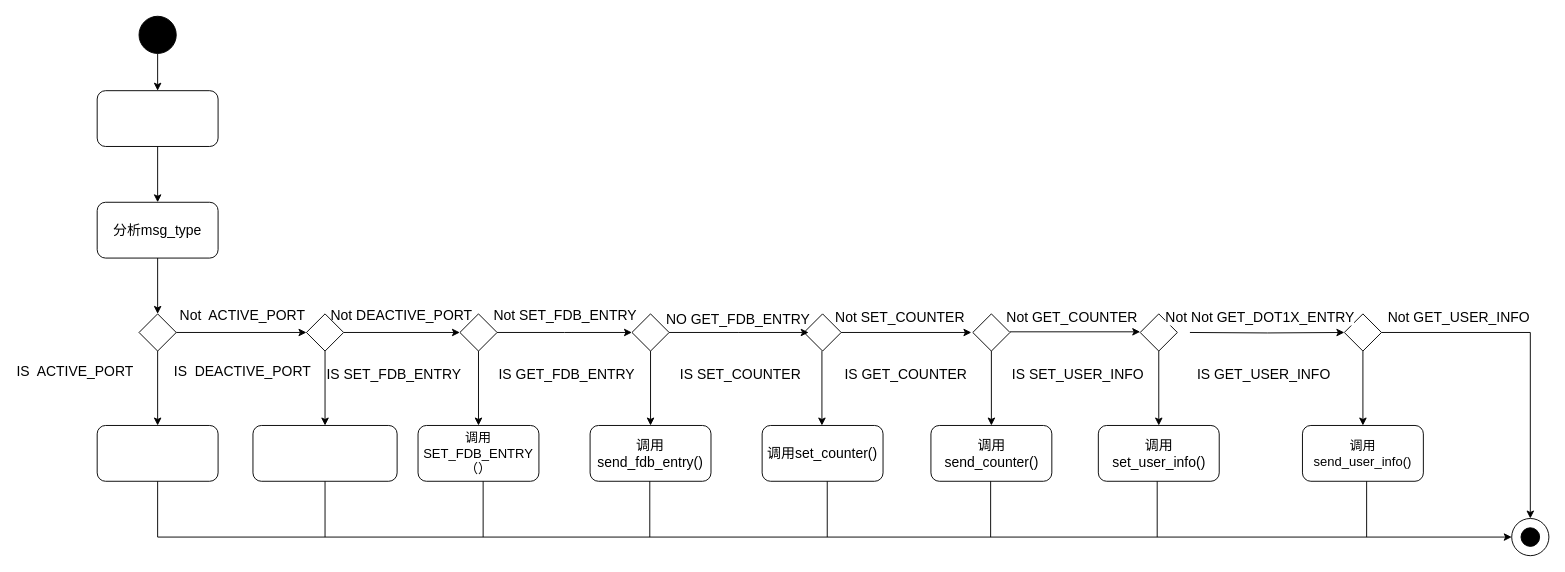
This 1565x572 diagram has some shape labels left out. The centre of each missing label's shape, as x and y in pixels:
"获取hostapd发送的消息" belongs at [157,118].
"调用ACTIVE_PORT()" belongs at [157,453].
"调用DEACTIVE_PORT（）" belongs at [324,453].
